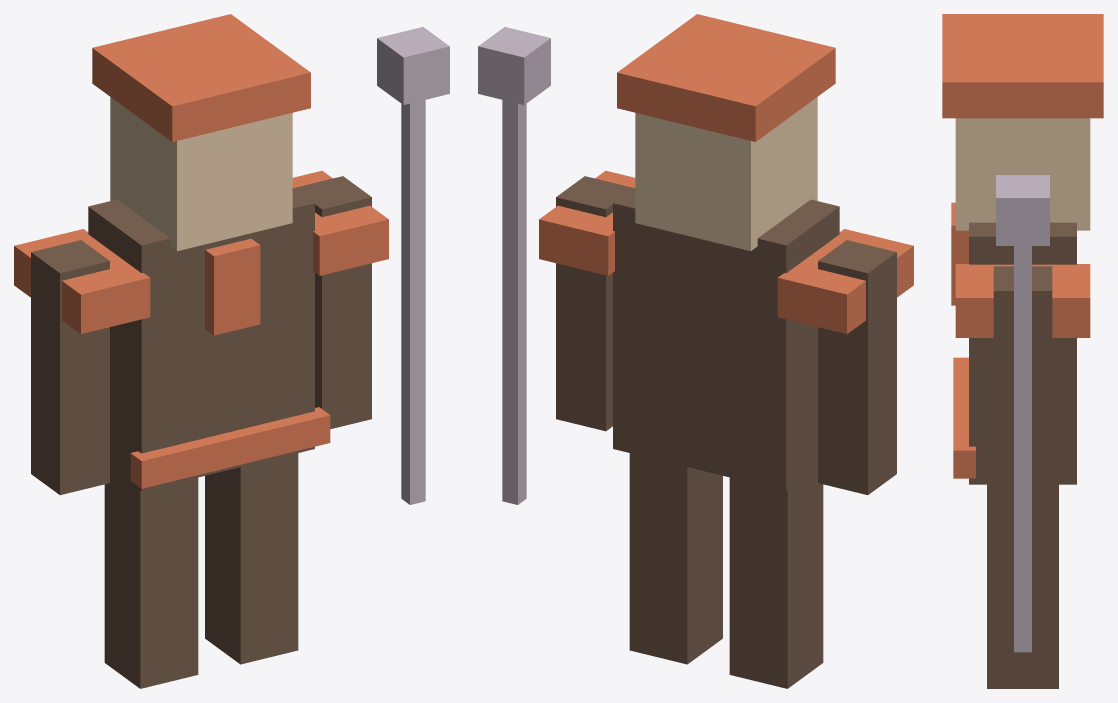
File: 11_juno_echohand_smith_near_resonance.glb
3 renders of one model, left to right at view 1: azimuth 30°, elevation 25°; view 2: azimuth 150°, elevation 25°; view 3: azimuth 270°, elevation 25°, orthographic.
Parts seen in each view (by area): view 1: Juno Echohand, Smith near Resonance; view 2: Juno Echohand, Smith near Resonance; view 3: Juno Echohand, Smith near Resonance.
Part boxes in pixels (x1=…): Juno Echohand, Smith near Resonance: x1=14, y1=14, x2=449, y2=688; Juno Echohand, Smith near Resonance: x1=478, y1=14, x2=913, y2=688; Juno Echohand, Smith near Resonance: x1=942, y1=14, x2=1103, y2=688.
Size of the model in its own units: 0.9902 by 1.44 by 0.3512.
